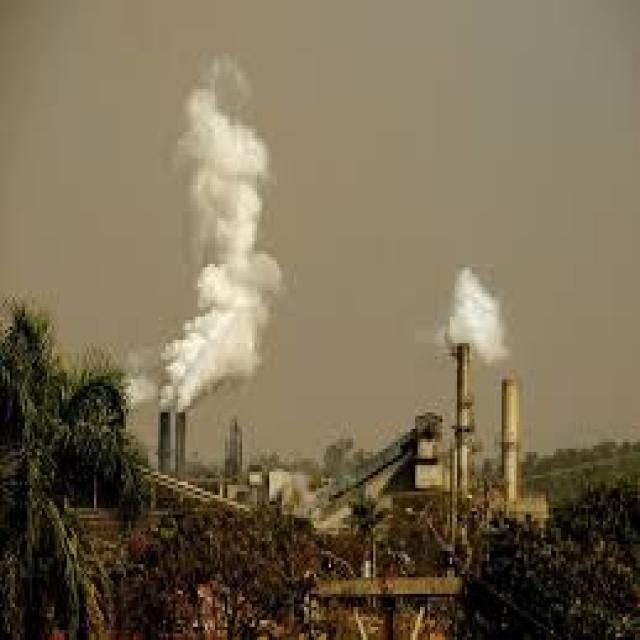Smoke: (158, 51, 284, 415), (445, 264, 511, 370)
